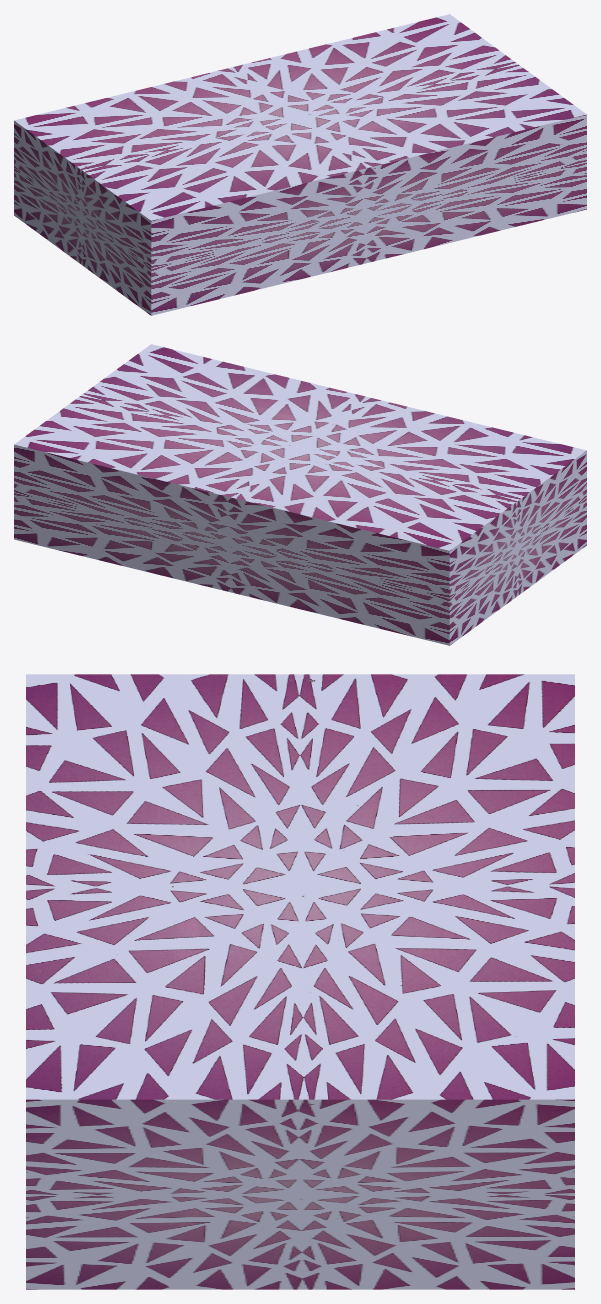
Rendered from coperchio2.fbx.
3 renders of one model, top to bottom at view 1: azimuth 30°, elevation 25°; view 2: azimuth 150°, elevation 25°; view 3: azimuth 270°, elevation 25°, orthographic. The views are drawn at different scales.
Parts seen in each view (by area): view 1: coperchio2; view 2: coperchio2; view 3: coperchio2.
Boxes of the visible parts, x1,y1,x2,y2 form: coperchio2: [14, 14, 586, 315]; coperchio2: [14, 344, 586, 645]; coperchio2: [26, 674, 574, 1289].
Size of the model in its own units: 67.8 by 14.12 by 36.96.
